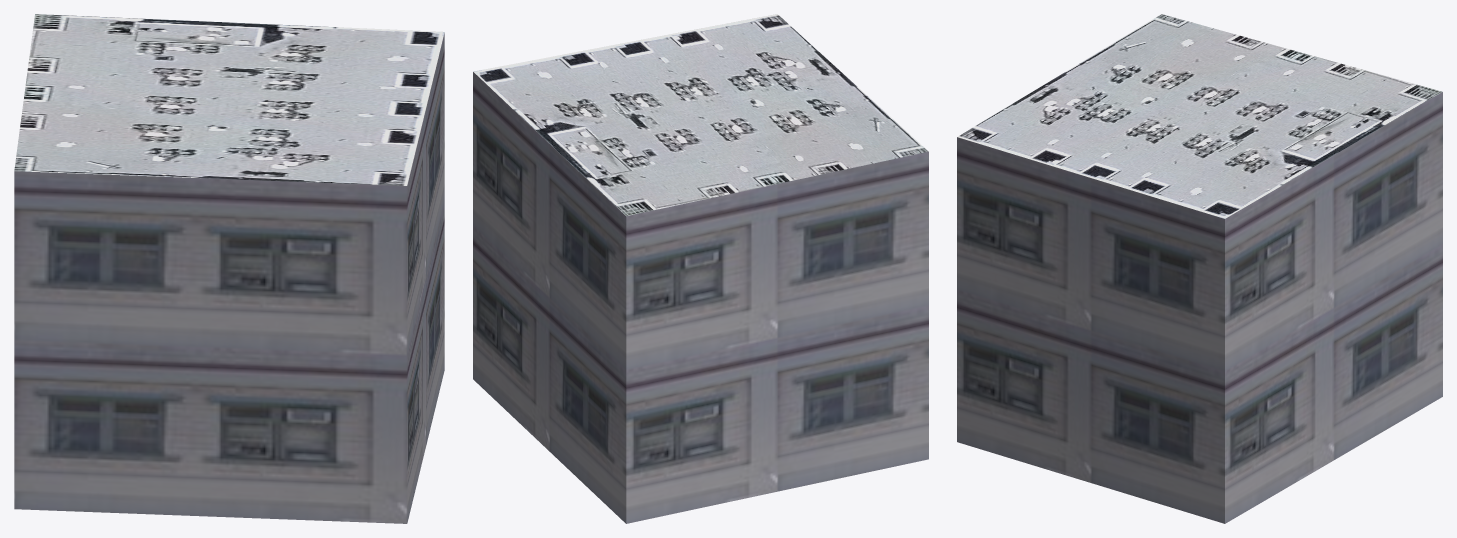
Rendered from ResTex__4122.fbx.
3 views of the same model, side by side, from view 1: azimuth 30°, elevation 25°; view 2: azimuth 150°, elevation 25°; view 3: azimuth 270°, elevation 25° (orthographic). The views are drawn at different scales.
Visible parts, largest first — view 1: CityEngineMaterial_1_m, CityEngineMaterial_8_m; view 2: CityEngineMaterial_1_m, CityEngineMaterial_8_m; view 3: CityEngineMaterial_1_m, CityEngineMaterial_8_m.
Part boxes in pixels (x1,y1,x2,y2): CityEngineMaterial_1_m: (14,33,444,523); CityEngineMaterial_8_m: (14,14,444,185); CityEngineMaterial_1_m: (473,72,928,523); CityEngineMaterial_8_m: (473,14,928,216); CityEngineMaterial_1_m: (957,92,1442,523); CityEngineMaterial_8_m: (957,14,1442,218).
Bounding box in the file's own units: 8.65 × 6 × 8.66.
Materials: 2 (2 with a texture image).
